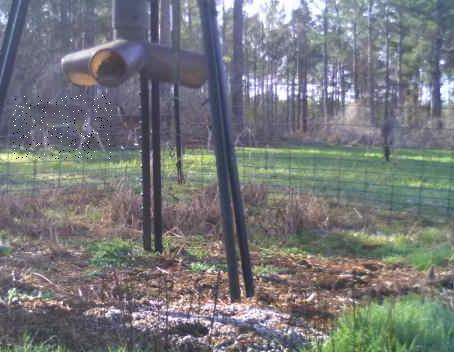Deer: (12, 95, 112, 159)
